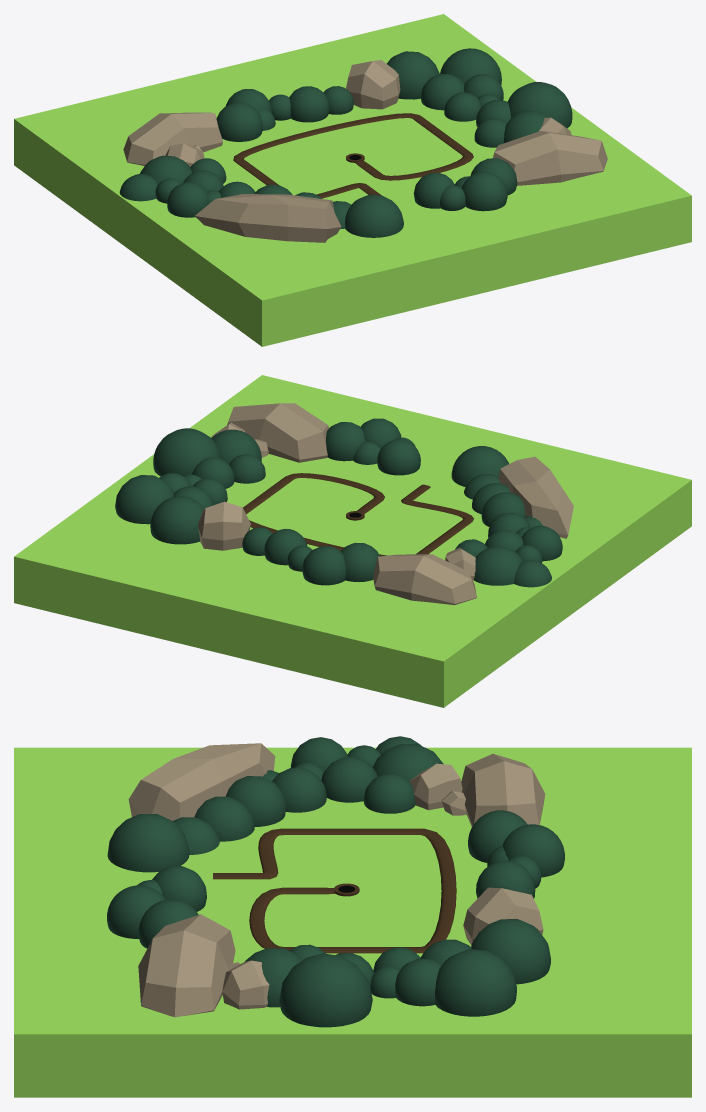
File: mainLevel.glb
3 renders of one model, top to bottom at view 1: azimuth 30°, elevation 25°; view 2: azimuth 150°, elevation 25°; view 3: azimuth 270°, elevation 25°, orthographic. The views are drawn at different scales.
Parts seen in each view (by area): view 1: Cube, Cube.008, Cube.002, Cube.005, BezierCurve.001, Cube.001, Sphere.029, Sphere.035, Sphere.016, Sphere.004, Sphere.019, Sphere.037 (+17 smaller); view 2: Cube, Cube.005, Cube.002, Cube.008, BezierCurve.001, Sphere.035, Sphere.016, Cube.001, Sphere.037, Sphere.028, Sphere.029, Sphere.006 (+17 smaller); view 3: Cube, Cube.002, Cube.008, BezierCurve.001, Sphere.035, Sphere.037, Cube.005, Sphere.029, Sphere.016, Cube.001, Sphere.006, Sphere.023 (+19 smaller).
Boxes of the visible parts, x1,y1,x2,y2 form: Cube: (14, 14, 691, 346); Cube.008: (195, 194, 341, 242); Cube.002: (493, 131, 607, 185); Cube.005: (123, 112, 222, 165); BezierCurve.001: (233, 113, 473, 198); Cube.001: (346, 60, 400, 109); Sphere.029: (345, 194, 403, 237); Sphere.035: (507, 82, 572, 128); Sphere.016: (387, 51, 439, 99); Sphere.004: (216, 102, 262, 141); Sphere.019: (461, 172, 507, 211); Sphere.037: (440, 48, 501, 85); Cube: (14, 375, 691, 707); Cube.005: (373, 554, 476, 605); Cube.002: (227, 403, 328, 462); Cube.008: (498, 456, 573, 538); BezierCurve.001: (243, 473, 473, 556); Sphere.035: (153, 428, 219, 476); Sphere.016: (150, 496, 204, 544); Cube.001: (198, 501, 250, 550); Sphere.037: (115, 475, 174, 524); Sphere.028: (473, 546, 523, 585); Sphere.029: (451, 446, 508, 486); Sphere.006: (302, 546, 345, 585); Cube: (14, 747, 691, 1097); Cube.002: (138, 914, 235, 1017); Cube.008: (128, 743, 275, 820); BezierCurve.001: (213, 828, 456, 953); Sphere.035: (279, 953, 372, 1027); Sphere.037: (435, 949, 516, 1016); Cube.005: (461, 753, 545, 826); Sphere.029: (107, 814, 189, 872); Sphere.016: (471, 919, 550, 984); Cube.001: (463, 887, 543, 945); Sphere.006: (502, 824, 564, 877); Sphere.023: (225, 776, 286, 826).
Size of the model in its own units: 19.36 by 3.65 by 19.36.
